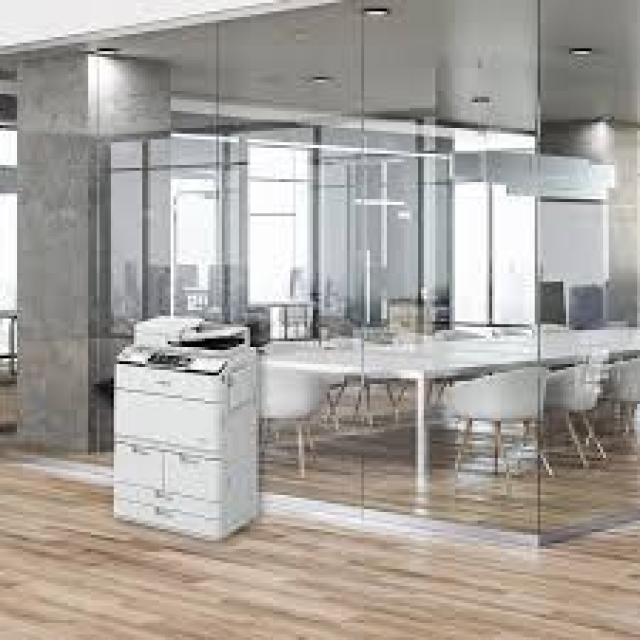printer: (111, 313, 262, 540)
